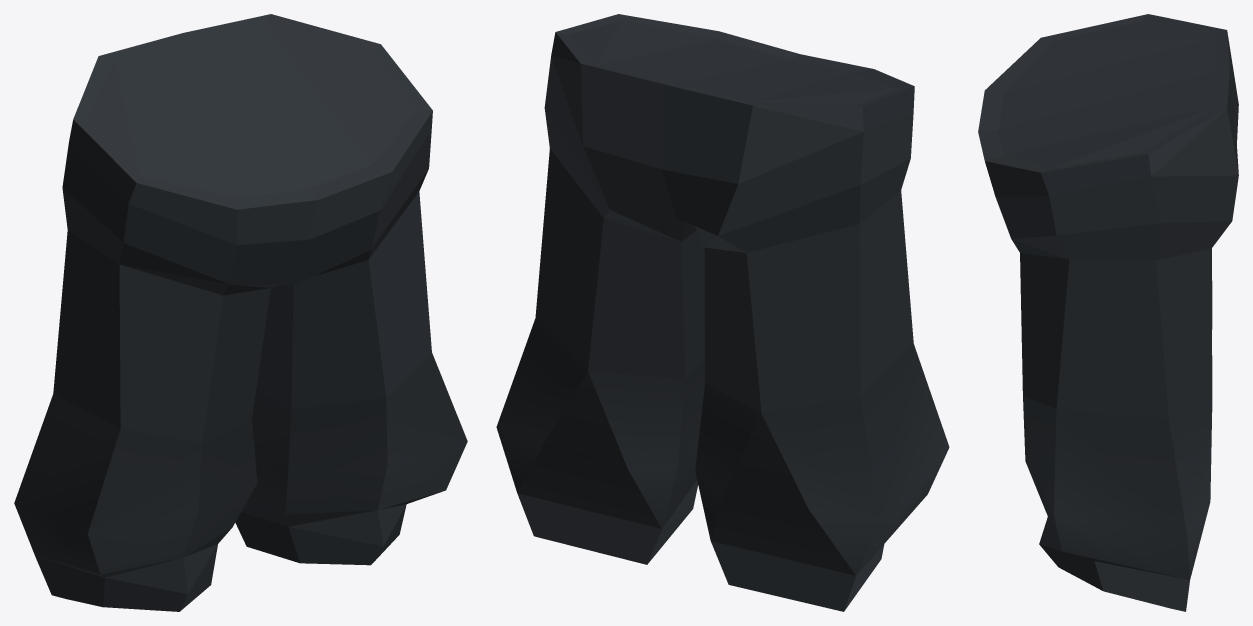
The model's file is Chr_Hips_Male_14_Static.fbx.
The picture shows the model from 3 angles, left to right: view 1: azimuth 30°, elevation 25°; view 2: azimuth 150°, elevation 25°; view 3: azimuth 270°, elevation 25°; orthographic projection. The views are drawn at different scales.
Parts seen in each view (by area): view 1: Chr_Hips_Male_14_Static; view 2: Chr_Hips_Male_14_Static; view 3: Chr_Hips_Male_14_Static.
Part boxes in pixels (box(x1,y1,x2,y2)): Chr_Hips_Male_14_Static: box(14, 14, 467, 611); Chr_Hips_Male_14_Static: box(496, 14, 949, 611); Chr_Hips_Male_14_Static: box(978, 14, 1238, 611).
Bounding box in the file's own units: 0.4397 × 0.5545 × 0.2771.
